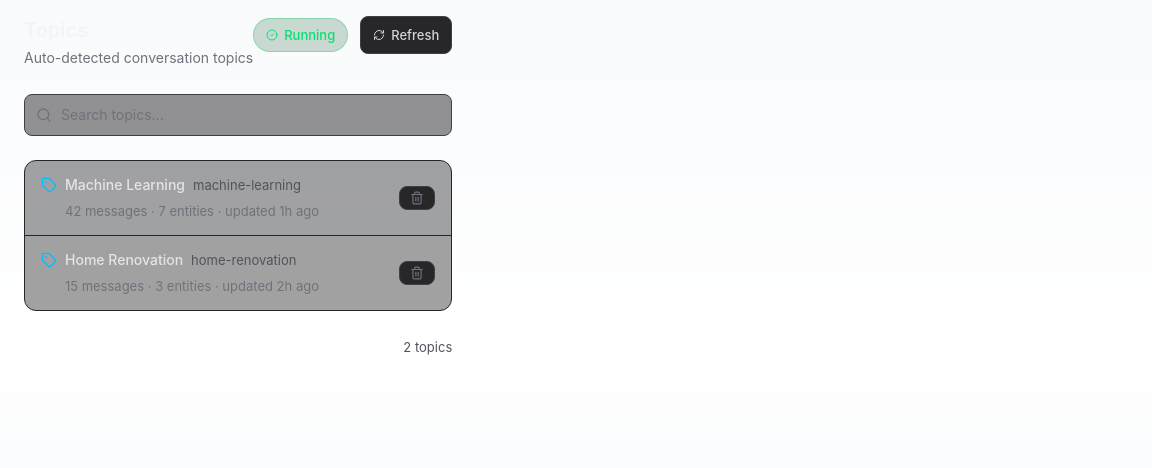
TopicsPage › filters topics by search term
Expected: the text "Machine Learning" is shown, [65, 173, 185, 197]
Type "machine" into the search field with placeholder "Search topics...". click: (238, 115)
box: [24, 94, 452, 136]
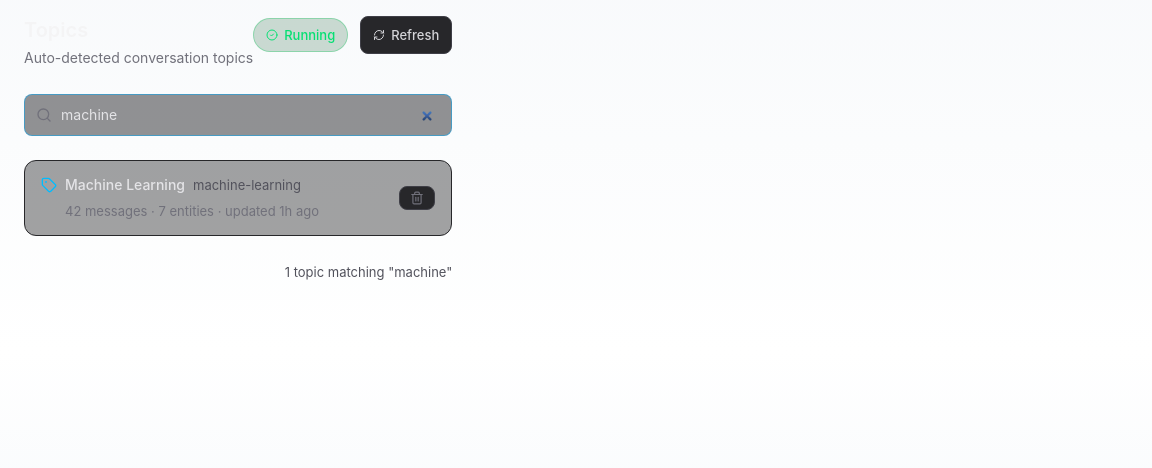
Expected: the text "Machine Learning" is shown, [65, 173, 185, 197]
Result: the text "Home Renovation" is gone
